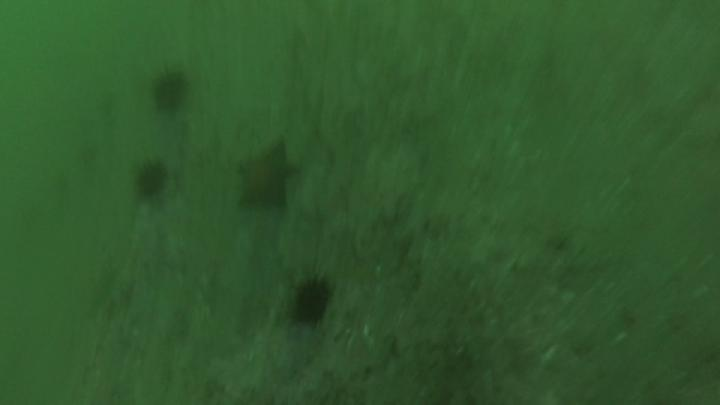echinus: (281, 272, 337, 333), (146, 65, 192, 120), (131, 155, 171, 202)
starfish: (235, 135, 304, 216)
